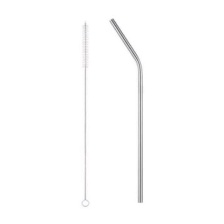drinking_straw: (104, 13, 150, 207)
